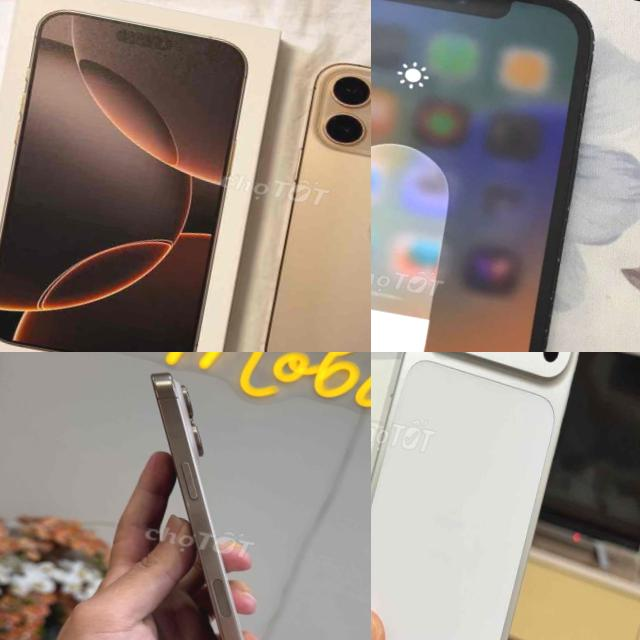gen_12_13: (371, 0, 630, 352)
gen_16: (83, 359, 340, 640), (240, 43, 371, 352)
gen_17: (371, 352, 599, 640)
